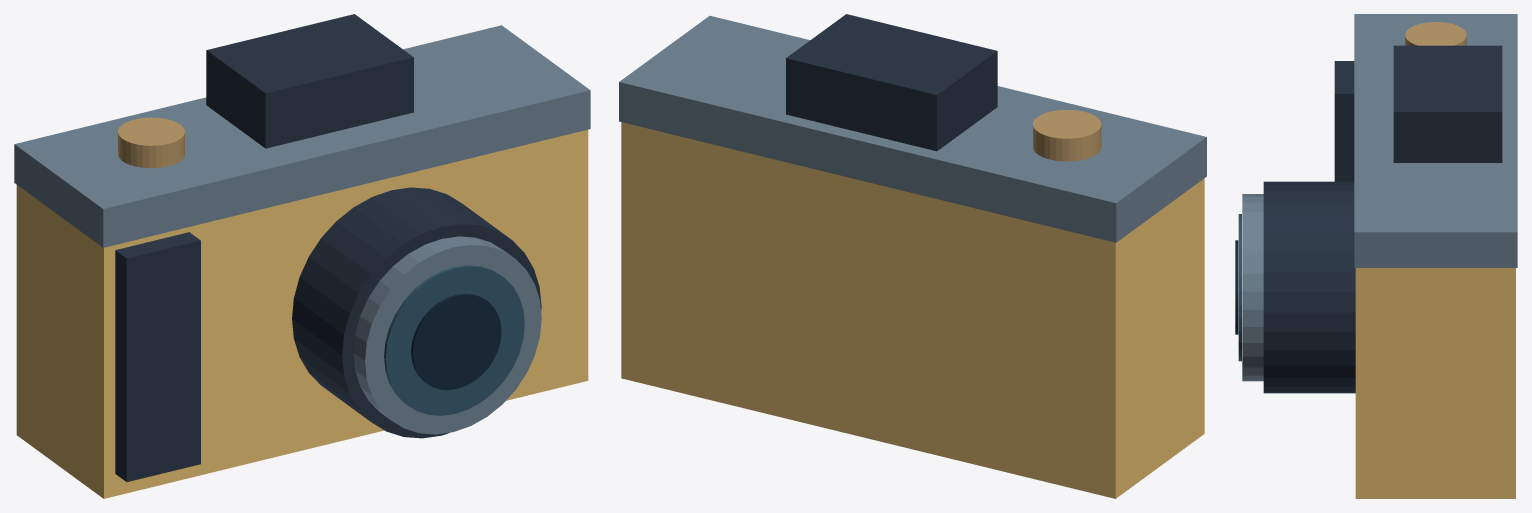
The model's file is camera.glb.
3 renders of one model, left to right at view 1: azimuth 30°, elevation 25°; view 2: azimuth 150°, elevation 25°; view 3: azimuth 270°, elevation 25°, orthographic. The views are drawn at different scales.
Visible parts, largest first — view 1: body, silver top, viewfinder, grip, lens barrel, lens ring, lens face, inner glass, shutter; view 2: body, silver top, viewfinder, shutter; view 3: body, silver top, lens barrel, viewfinder, lens ring, grip, shutter, lens face, inner glass.
Part boxes in pixels (x1=…): body: x1=16, y1=129, x2=588, y2=498; silver top: x1=14, y1=25, x2=590, y2=247; viewfinder: x1=206, y1=14, x2=413, y2=148; grip: x1=115, y1=232, x2=200, y2=481; lens barrel: x1=292, y1=187, x2=541, y2=438; lens ring: x1=353, y1=236, x2=541, y2=434; lens face: x1=384, y1=265, x2=524, y2=415; inner glass: x1=411, y1=293, x2=501, y2=390; shutter: x1=118, y1=117, x2=184, y2=168; body: x1=621, y1=122, x2=1204, y2=498; silver top: x1=619, y1=15, x2=1206, y2=242; viewfinder: x1=786, y1=14, x2=997, y2=151; shutter: x1=1033, y1=109, x2=1101, y2=161; body: x1=1355, y1=268, x2=1515, y2=498; silver top: x1=1354, y1=14, x2=1517, y2=267; lens barrel: x1=1263, y1=181, x2=1355, y2=393; viewfinder: x1=1393, y1=45, x2=1502, y2=162; lens ring: x1=1242, y1=194, x2=1263, y2=381; grip: x1=1334, y1=61, x2=1354, y2=181; shutter: x1=1405, y1=22, x2=1466, y2=45; lens face: x1=1238, y1=214, x2=1241, y2=361; inner glass: x1=1235, y1=240, x2=1238, y2=334.
Bounding box in the file's own units: 1.71 × 1.16 × 0.933.
